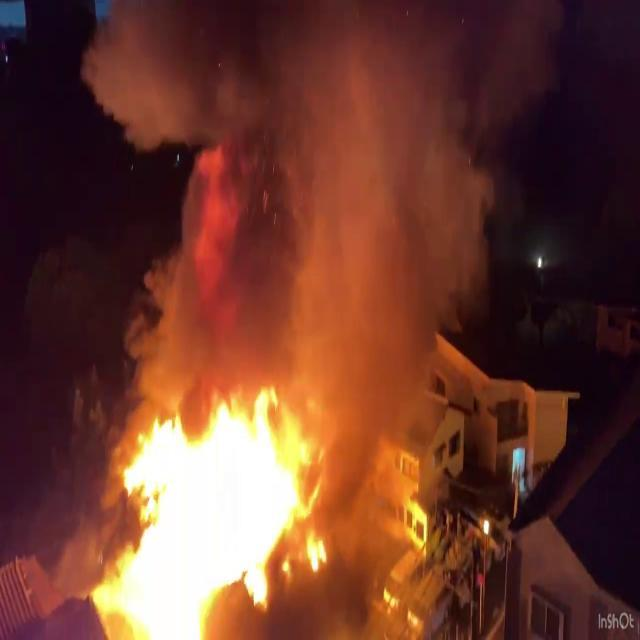Fire: (108, 374, 322, 636)
Smoke: (134, 0, 564, 536)
